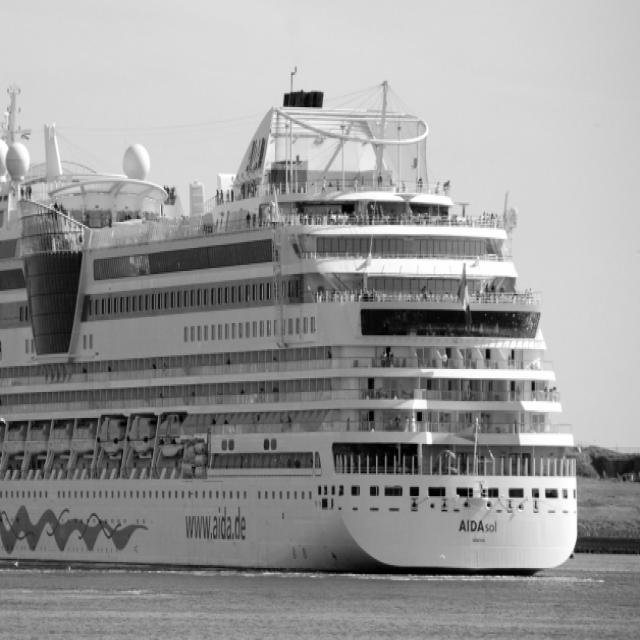cruises: (1, 79, 586, 584)
